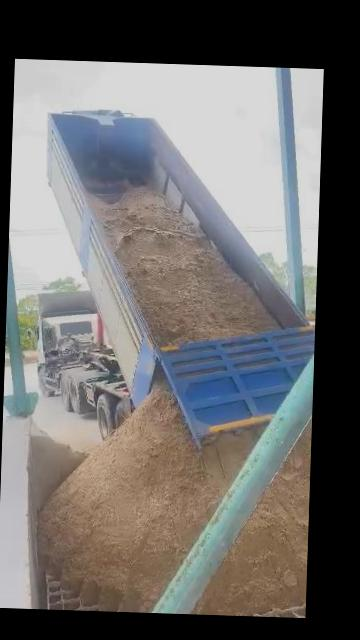sand: (39, 383, 259, 612), (91, 188, 277, 345), (197, 434, 311, 615), (28, 425, 85, 512)
